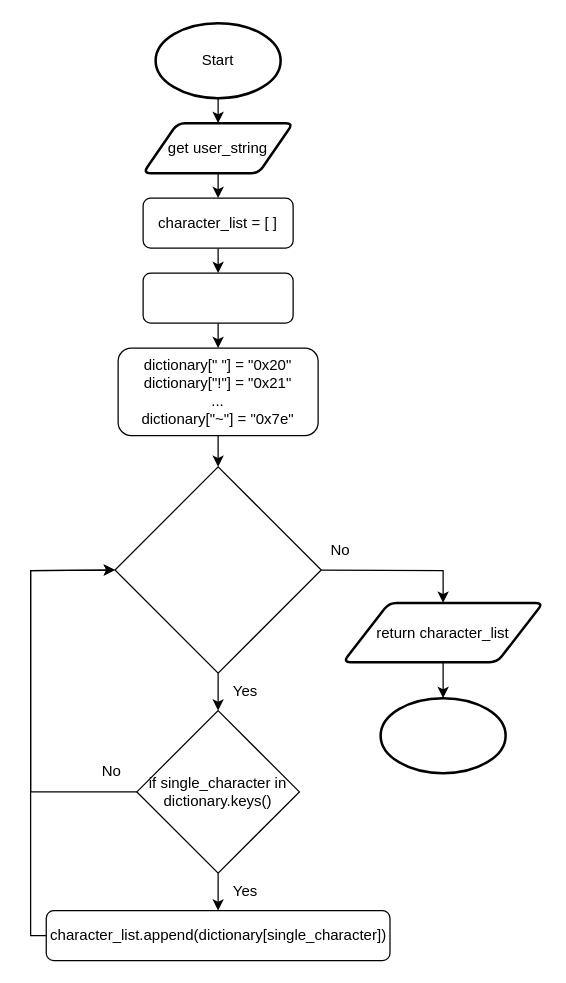
The diagram is 566 pixels wide and 983 high, and some of its shapes have lost their labels. Each missing label, with the centre of its shape:
"dictionary = { }" belongs at pixel 217 297.
"for single_character in user_string" belongs at pixel 217 569.
"Stop" belongs at pixel 442 735.
